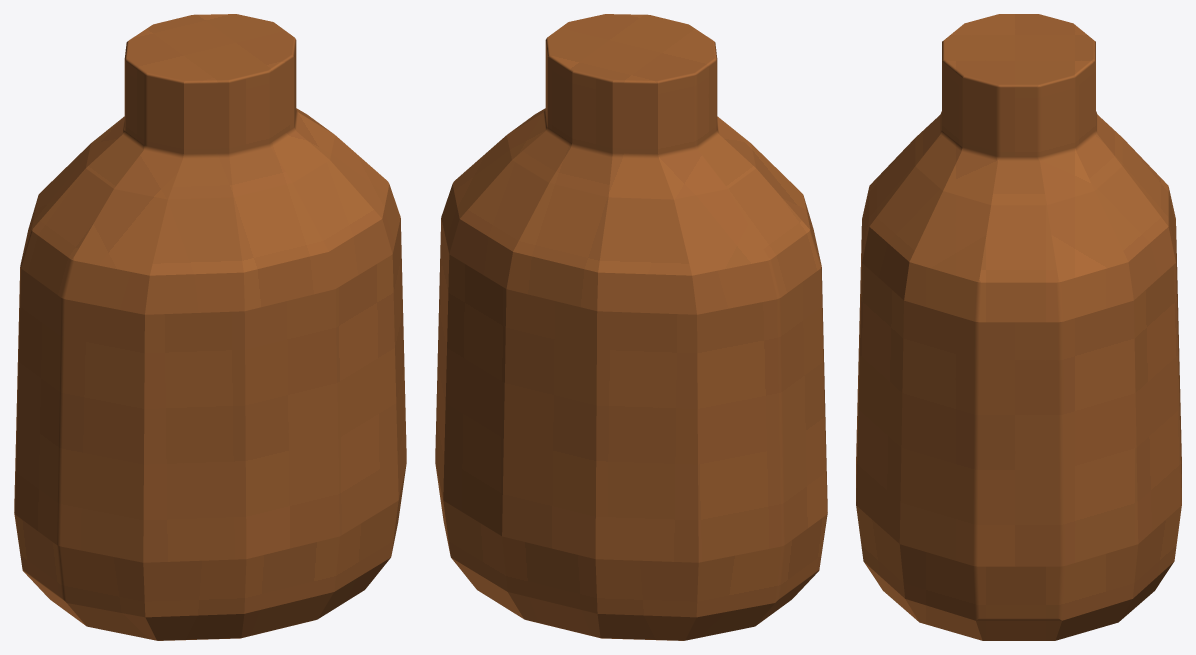
Rendered from Vessel.glb.
3 views of the same model, side by side, from view 1: azimuth 30°, elevation 25°; view 2: azimuth 150°, elevation 25°; view 3: azimuth 270°, elevation 25° (orthographic).
Visible parts, largest first — view 1: Vessel; view 2: Vessel; view 3: Vessel.
Part boxes in pixels (<box>): Vessel: <box>14,14,406,640</box>; Vessel: <box>435,14,827,640</box>; Vessel: <box>856,14,1181,640</box>.
Bounding box in the file's own units: 0.2589 × 0.378 × 0.2125.
1 material, 1 textured.
